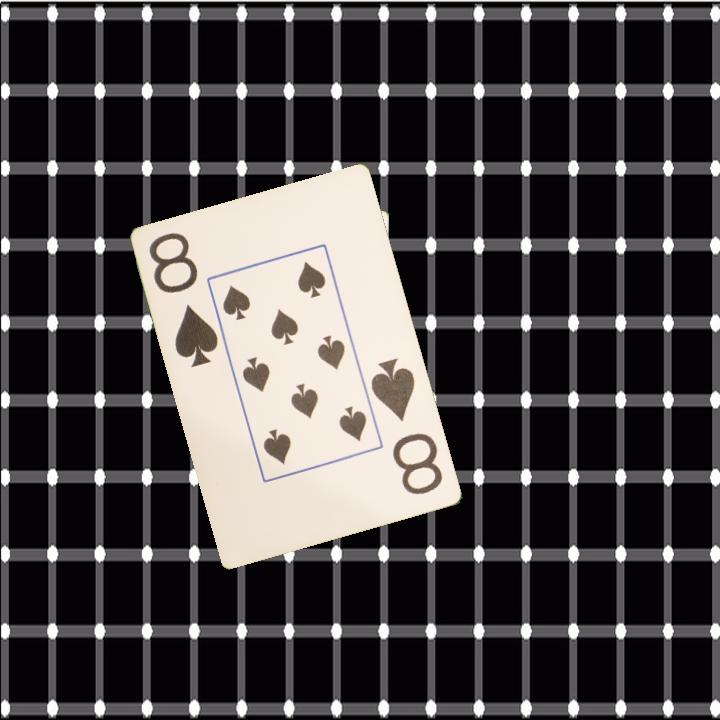8s: (367, 355, 447, 498), (145, 229, 222, 371)
